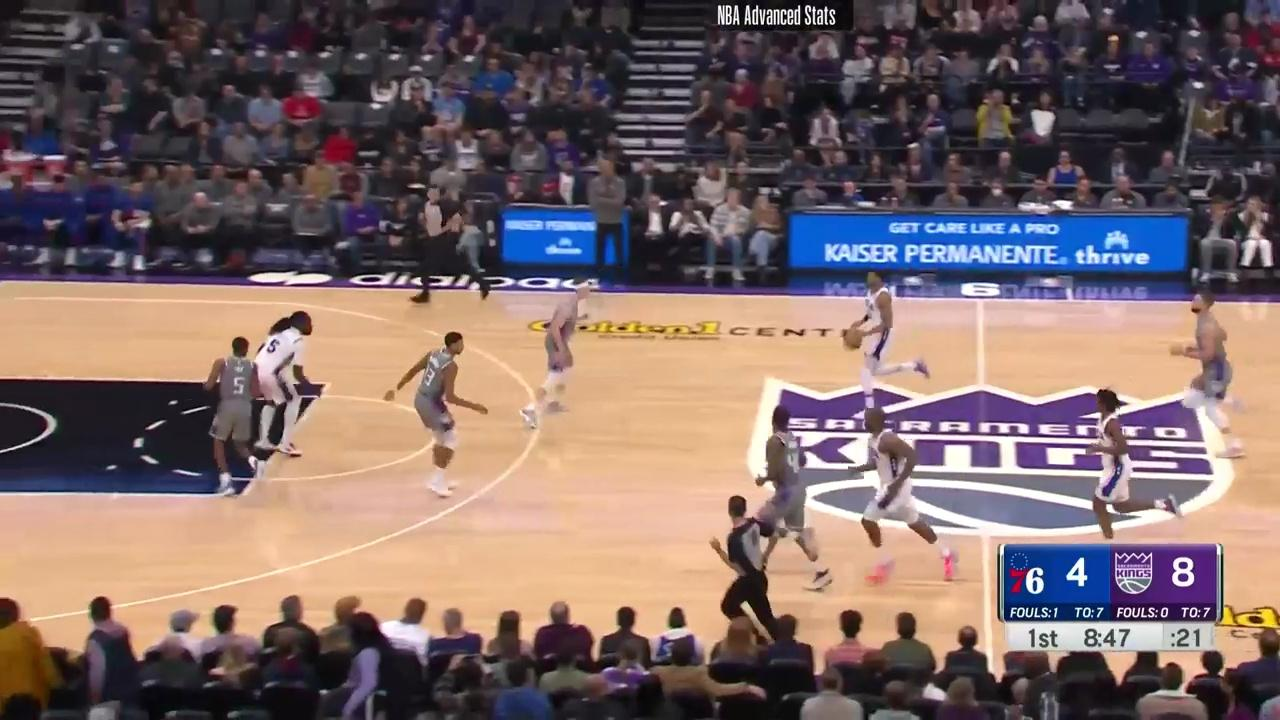Ball: (846, 333, 863, 349)
Person: (845, 402, 965, 588), (1077, 389, 1197, 541), (1170, 285, 1250, 458), (751, 395, 825, 580), (400, 332, 481, 499), (844, 262, 933, 409), (523, 279, 597, 424), (255, 312, 324, 464), (206, 332, 268, 498)
Referee: (705, 493, 796, 642), (407, 183, 494, 308)
